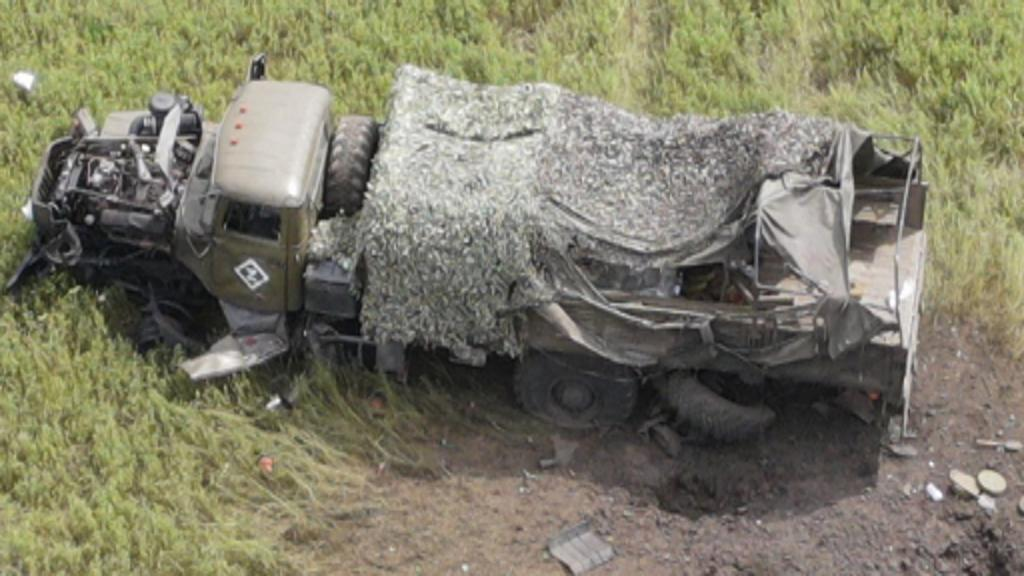TRUCK: (20, 58, 932, 452)
